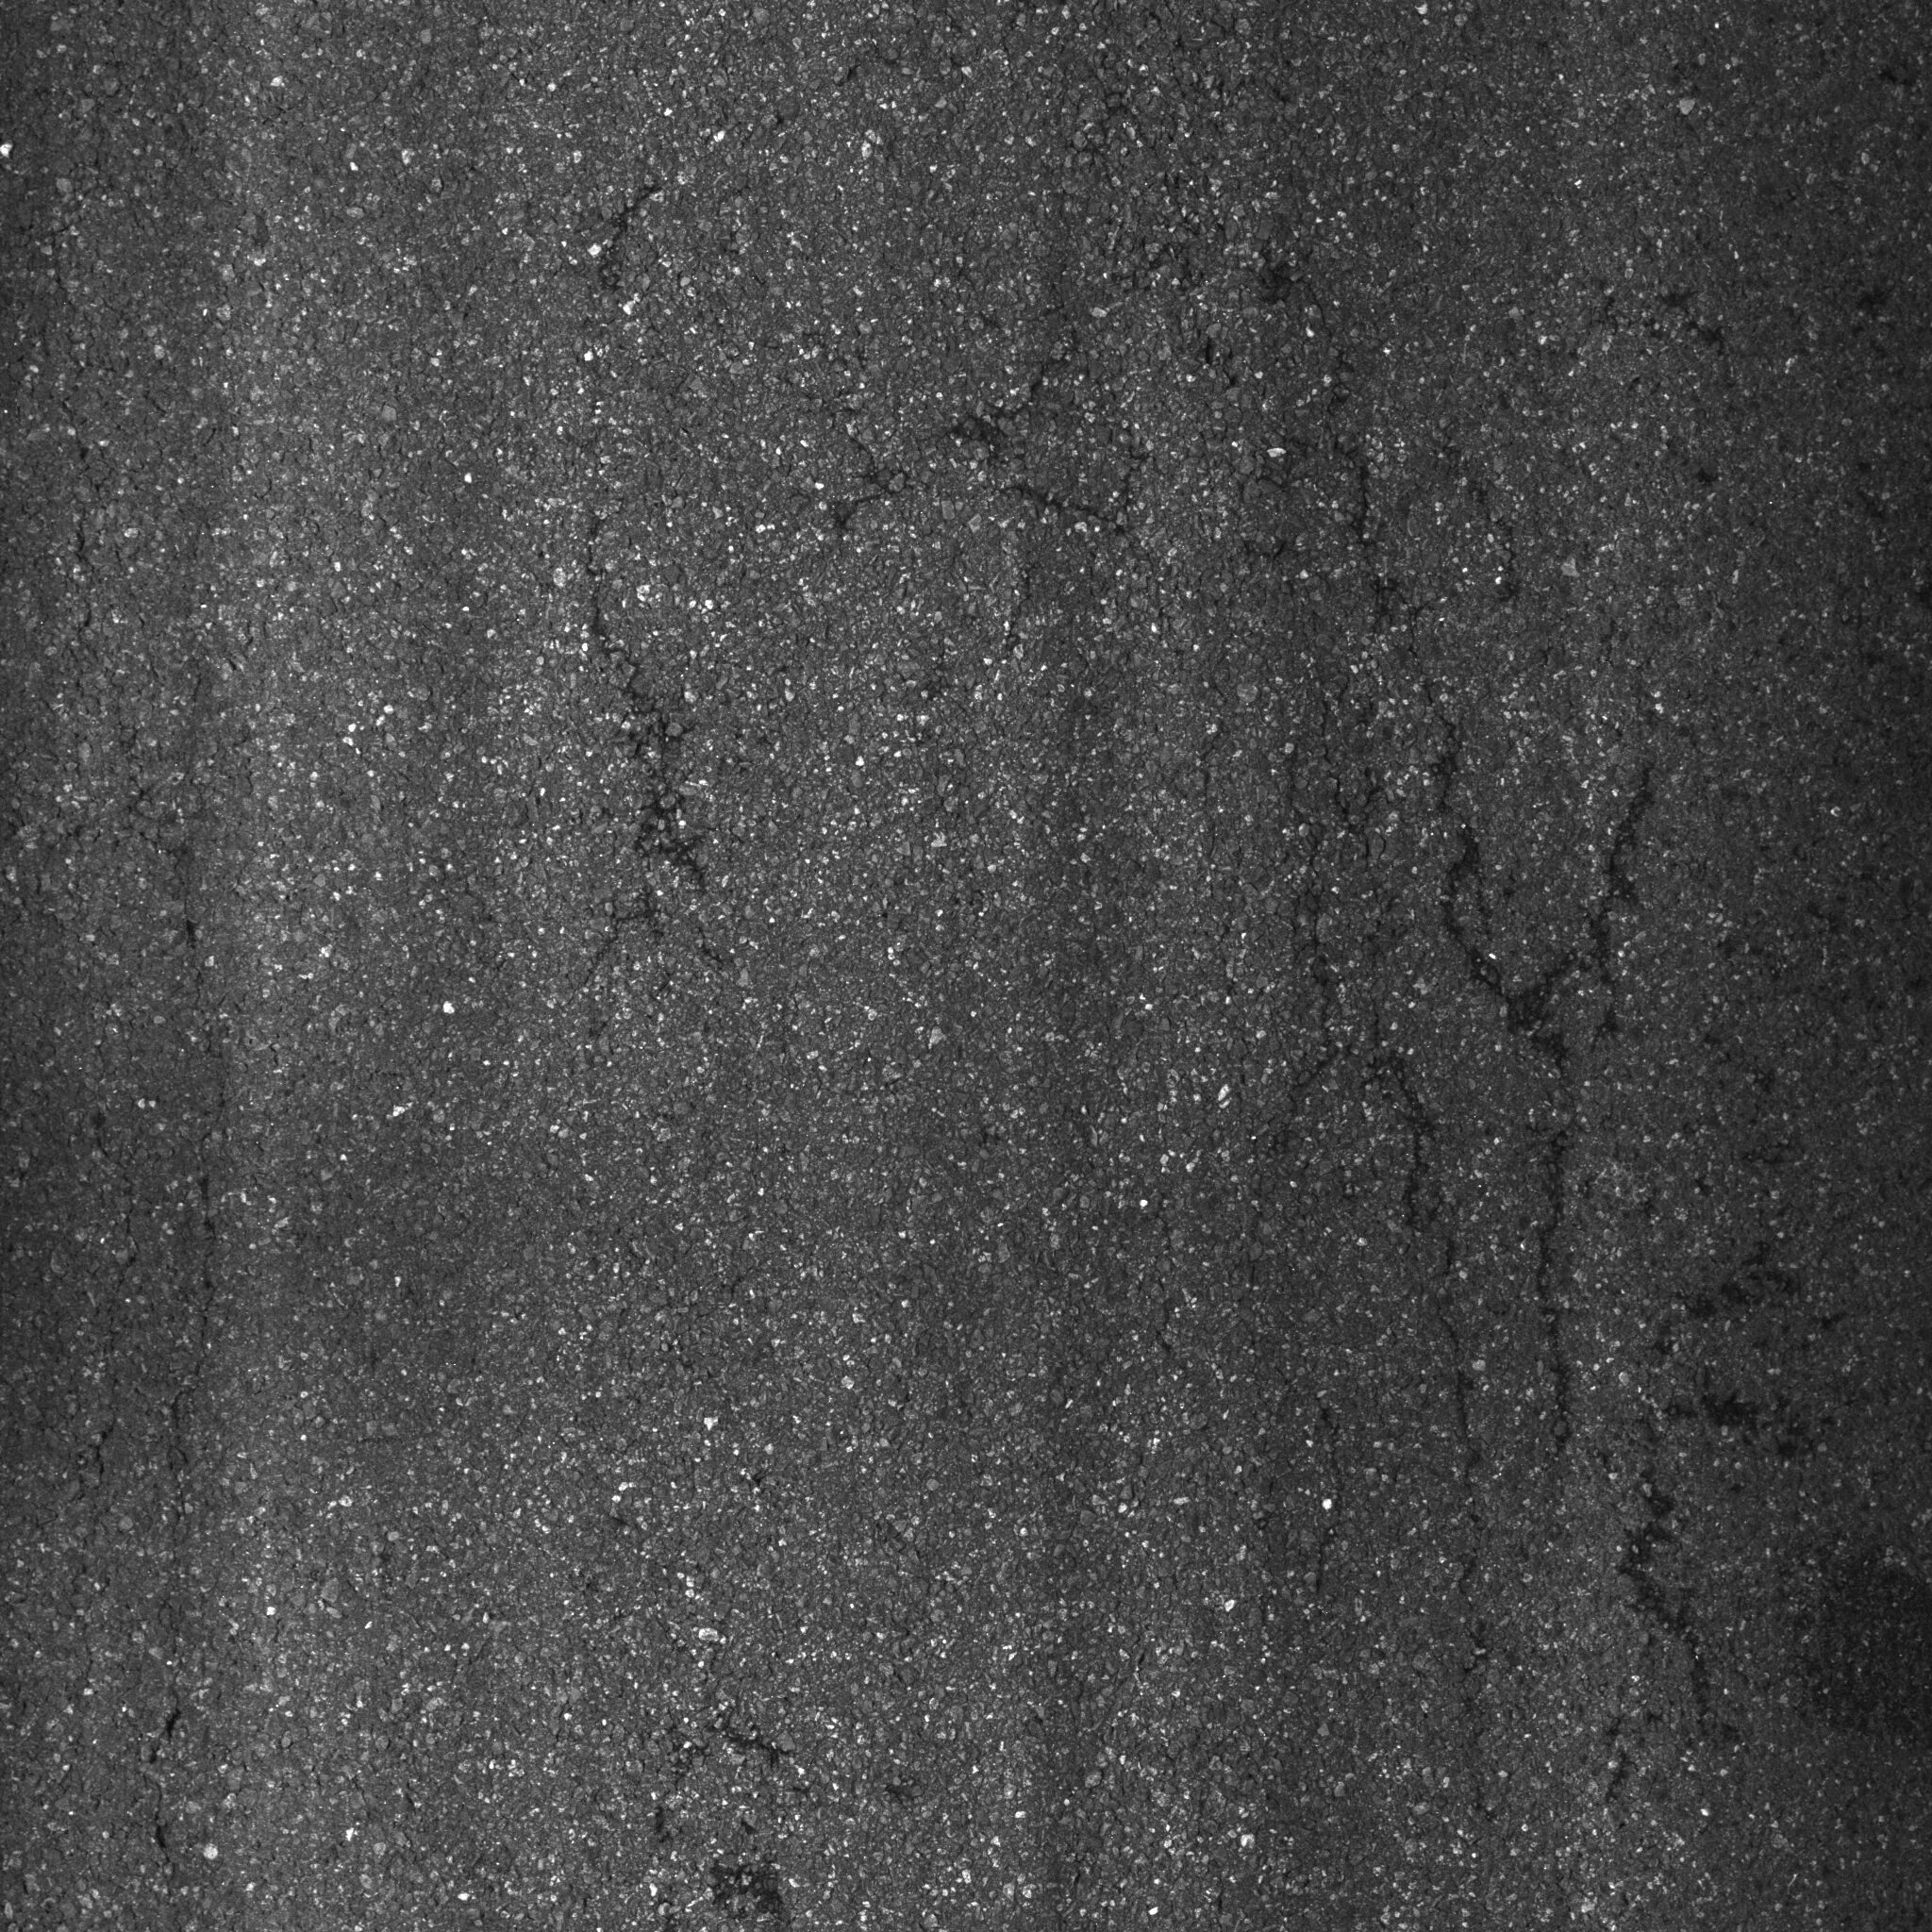alligator: (787, 322, 1785, 1810)
